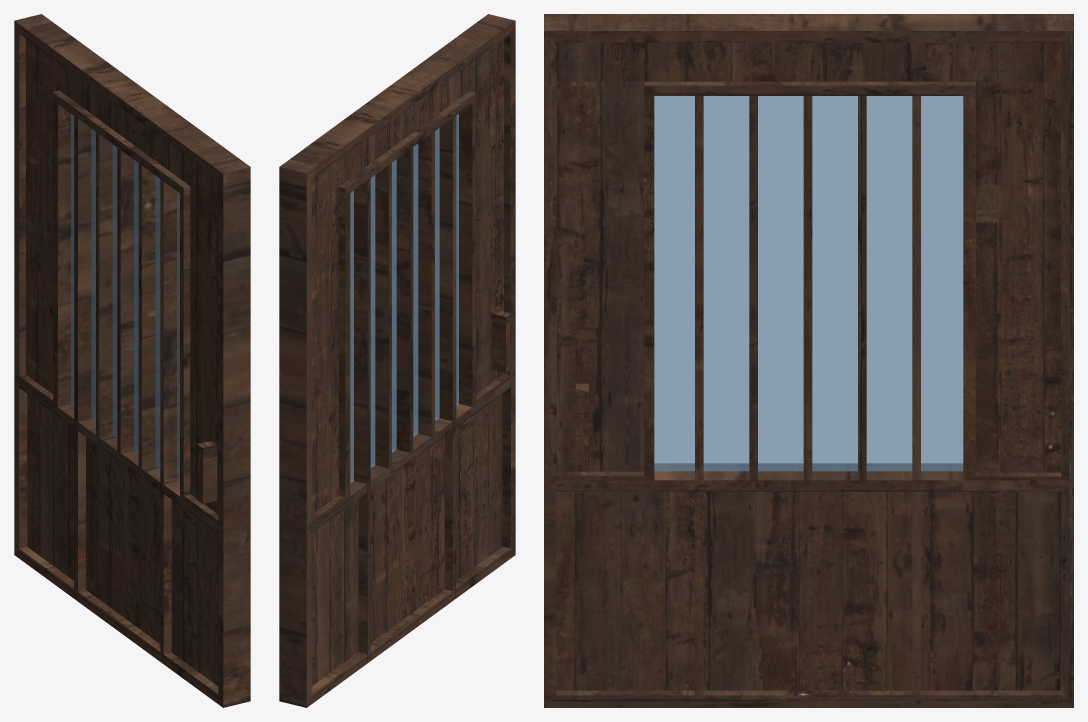
The model's file is doors_front.glb.
3 views of the same model, side by side, from view 1: azimuth 30°, elevation 25°; view 2: azimuth 150°, elevation 25°; view 3: azimuth 270°, elevation 25° (orthographic). The views are drawn at different scales.
Parts seen in each view (by area): view 1: Small door.001; view 2: Small door.001; view 3: Small door.001.
Part boxes in pixels (<box>): Small door.001: <box>14,14,250,707</box>; Small door.001: <box>279,14,515,707</box>; Small door.001: <box>544,14,1073,707</box>.
Size of what is drawn, in the model's own units: 0.2976 by 3.53 by 2.5.
2 materials, 1 textured.
